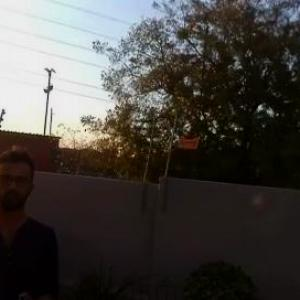follow: (0, 141, 64, 299)
